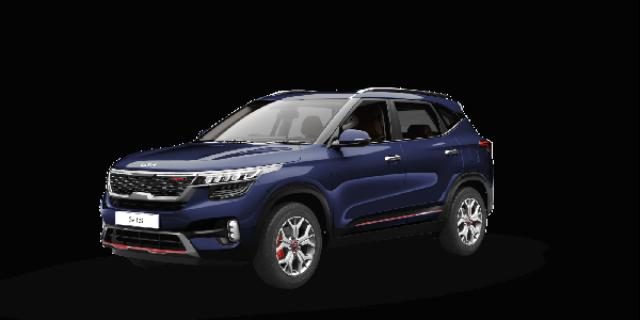kia: (99, 88, 493, 288)
